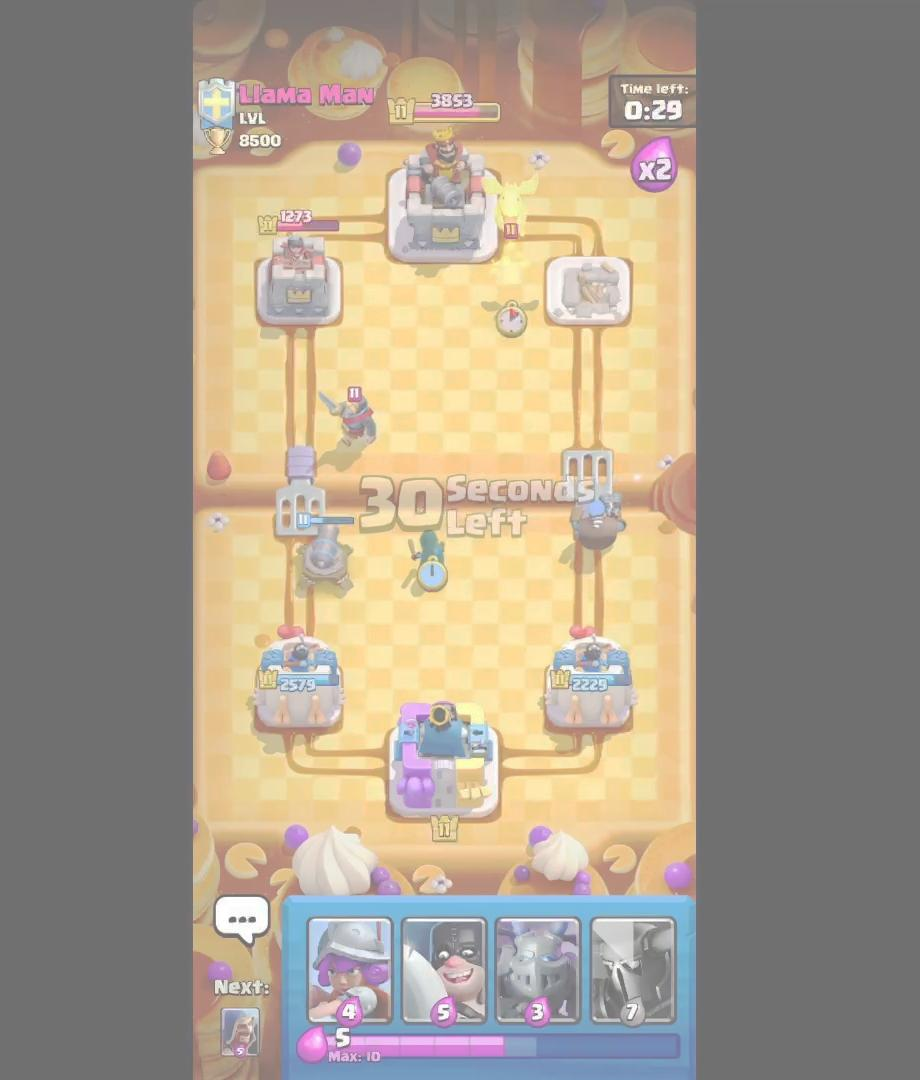Baby Dragon: (476, 174, 541, 245)
Knight: (313, 379, 387, 459)
